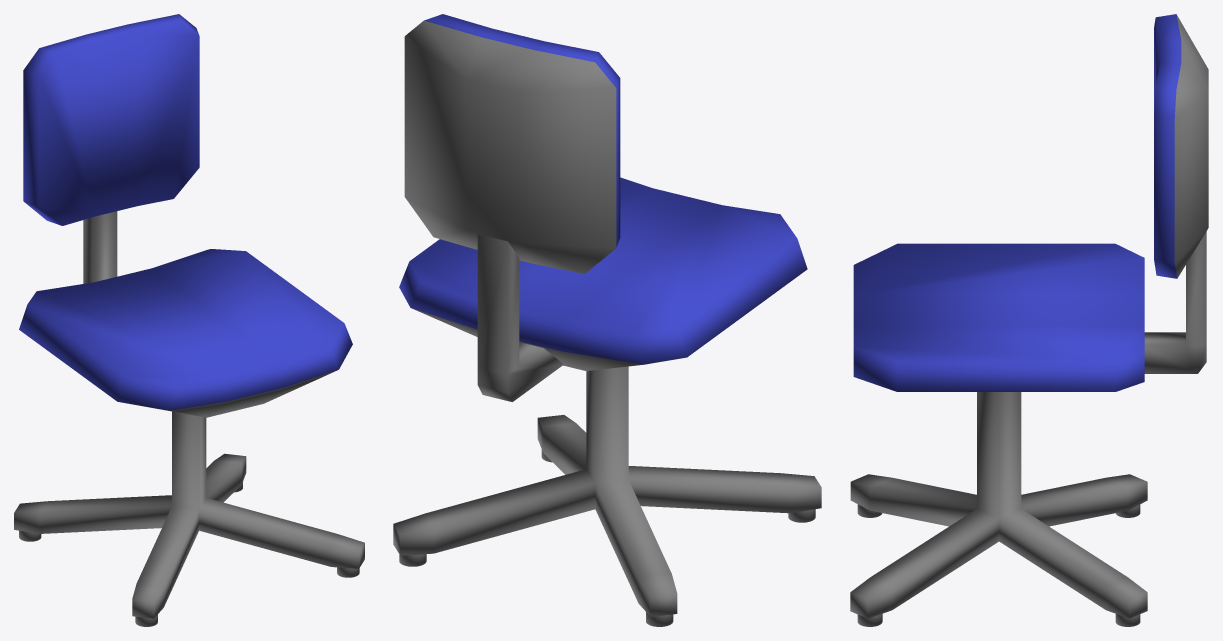
File: オフィスチェア.fbx
3 views of the same model, side by side, from view 1: azimuth 30°, elevation 25°; view 2: azimuth 150°, elevation 25°; view 3: azimuth 270°, elevation 25° (orthographic). The views are drawn at different scales.
Visible parts, largest first — view 1: オフィスチェアUV; view 2: オフィスチェアUV; view 3: オフィスチェアUV.
Boxes of the visible parts, box(x1,y1,x2,y2) form: オフィスチェアUV: box(14, 14, 364, 626); オフィスチェアUV: box(393, 14, 821, 626); オフィスチェアUV: box(850, 14, 1208, 626).
Size of the model in its own units: 43.52 by 51.79 by 82.16.
